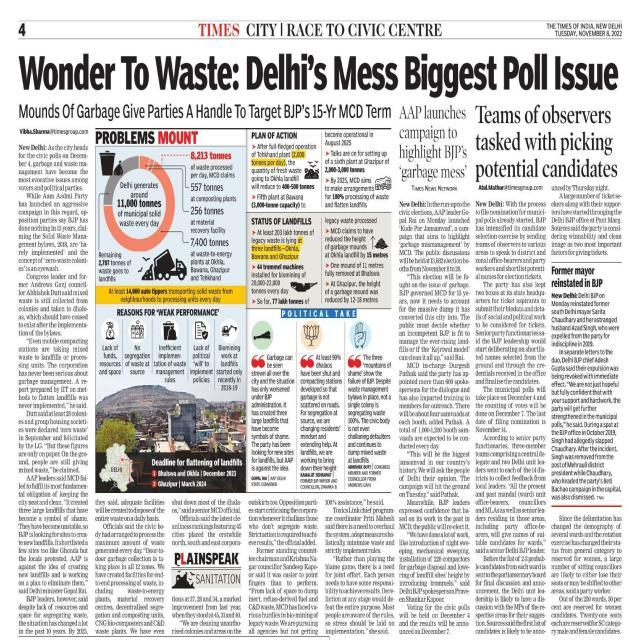Article: (12, 98, 397, 636), (476, 98, 627, 640), (402, 98, 474, 638)
Body: (17, 142, 89, 636), (475, 198, 547, 636), (398, 200, 470, 635), (550, 291, 622, 502), (94, 498, 166, 636), (247, 498, 319, 636), (324, 498, 394, 636), (550, 513, 622, 635), (550, 182, 623, 257), (171, 497, 242, 547), (171, 594, 242, 636)
Date: (554, 30, 622, 38)
Heading: (17, 46, 621, 98), (473, 103, 618, 180), (399, 104, 467, 184), (551, 266, 604, 288)
Highlights: (16, 102, 394, 124), (249, 216, 321, 306), (346, 354, 392, 488), (324, 216, 392, 306), (250, 130, 322, 211), (298, 354, 339, 490), (323, 131, 392, 209), (250, 352, 294, 474), (95, 130, 198, 144)
Image: (96, 305, 247, 493), (96, 147, 247, 286), (168, 553, 242, 588)
Name: (194, 23, 279, 39), (546, 22, 594, 28)
